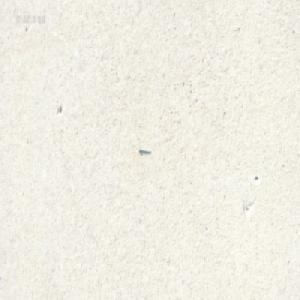Nail: (137, 145, 150, 153)
